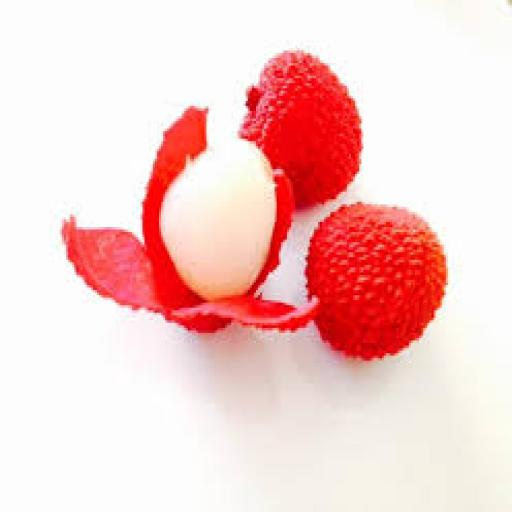lychee: (62, 109, 317, 330), (306, 205, 445, 360), (240, 51, 361, 204)
